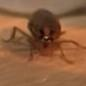cockroach: (27, 8, 62, 53)
